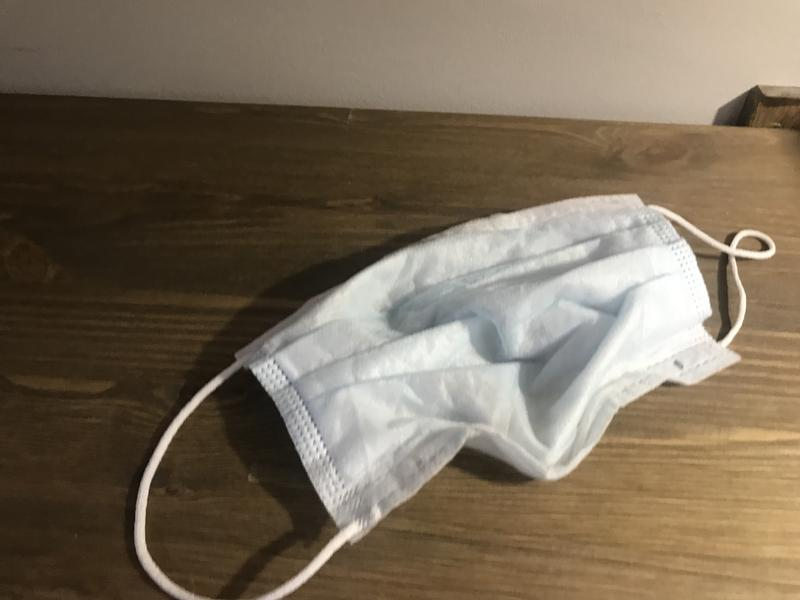medical_mask: (130, 193, 778, 600)
